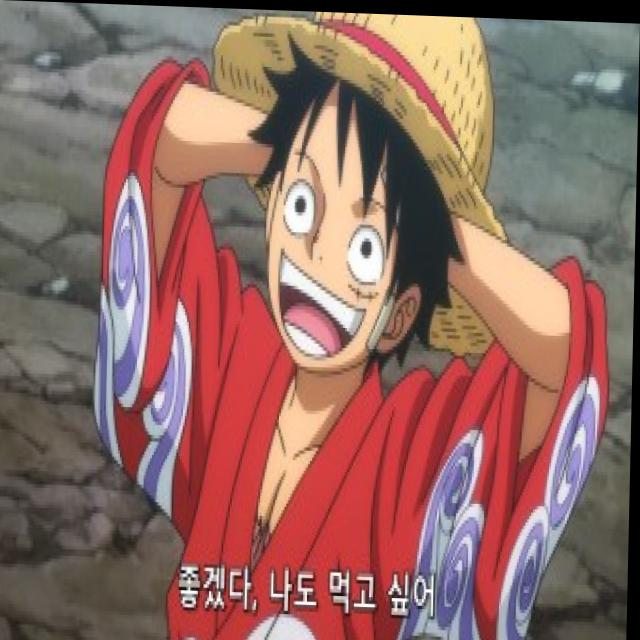Luffy: (98, 20, 600, 640)
